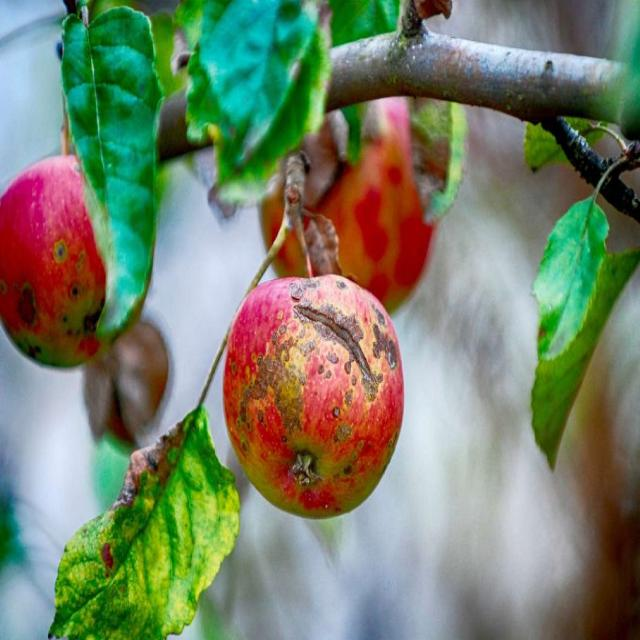Rotten Apple: (222, 225, 421, 518), (2, 137, 148, 394)
